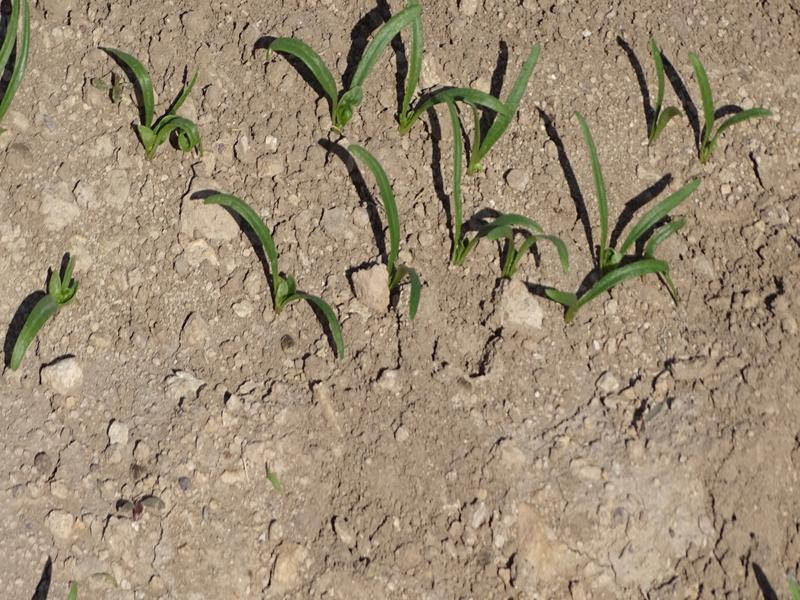Espinaca: (275, 15, 540, 146), (211, 191, 349, 356), (547, 177, 707, 311), (648, 39, 769, 159), (354, 150, 433, 317), (107, 42, 212, 156), (9, 253, 85, 361)
